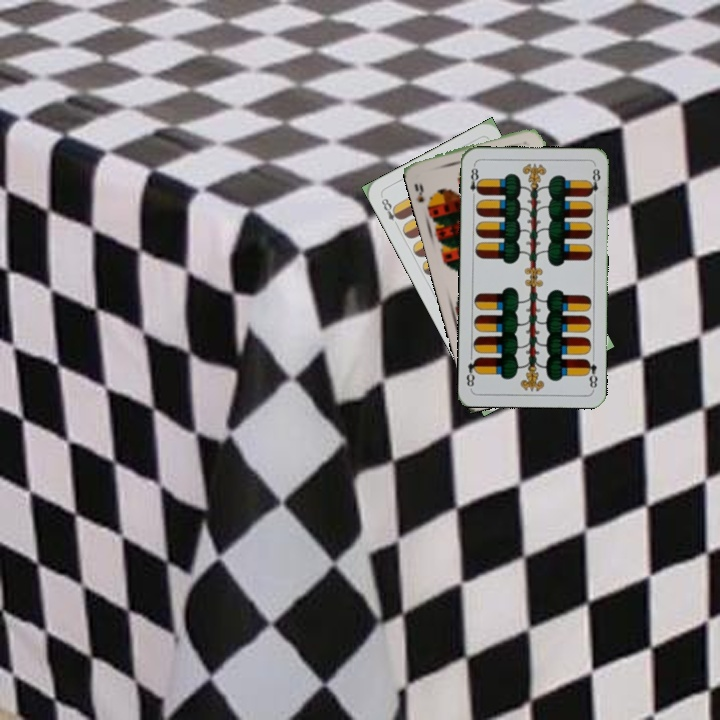E8: (377, 194, 404, 230), (466, 161, 483, 202), (582, 355, 600, 392)
S9: (410, 180, 436, 212)
